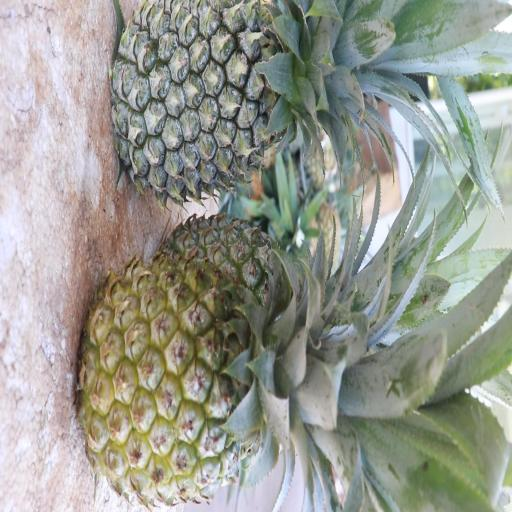------------------------------: (72, 249, 369, 512)
